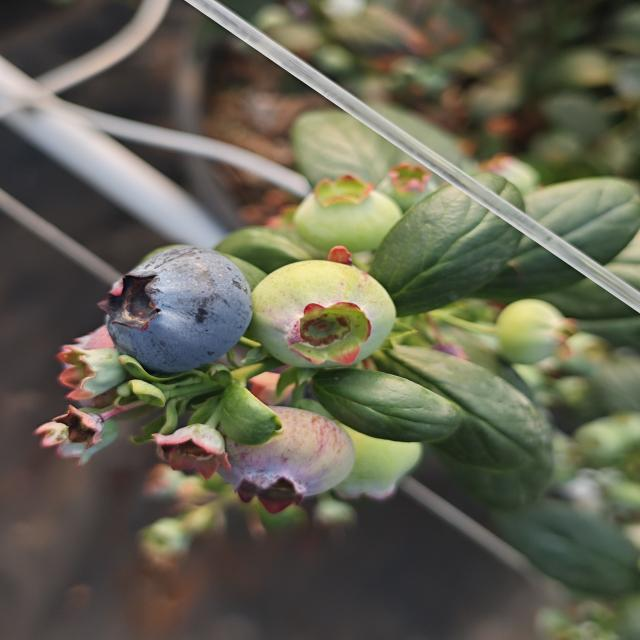ripe: (71, 226, 270, 380)
